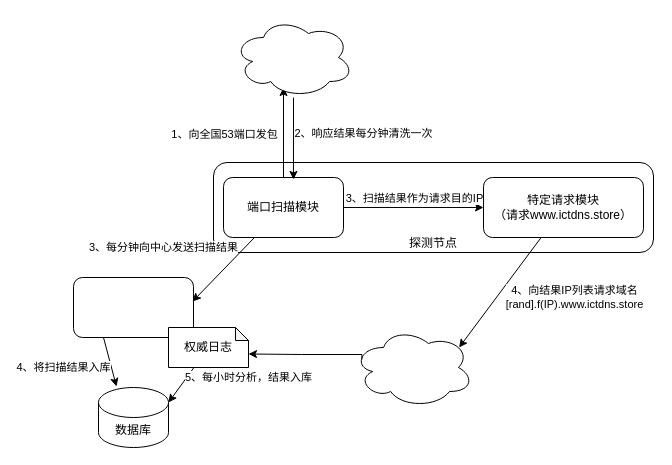
The diagram is 672 pixels wide and 465 high, and some of its shapes have lost their labels. The centre of each missing label's shape, as x and y in pixels:
"ODNS RDNS" goes at (x=413, y=367).
"中心节点 （也是权威服务器）" goes at (x=133, y=307).
"全国IP" goes at (x=293, y=57).
